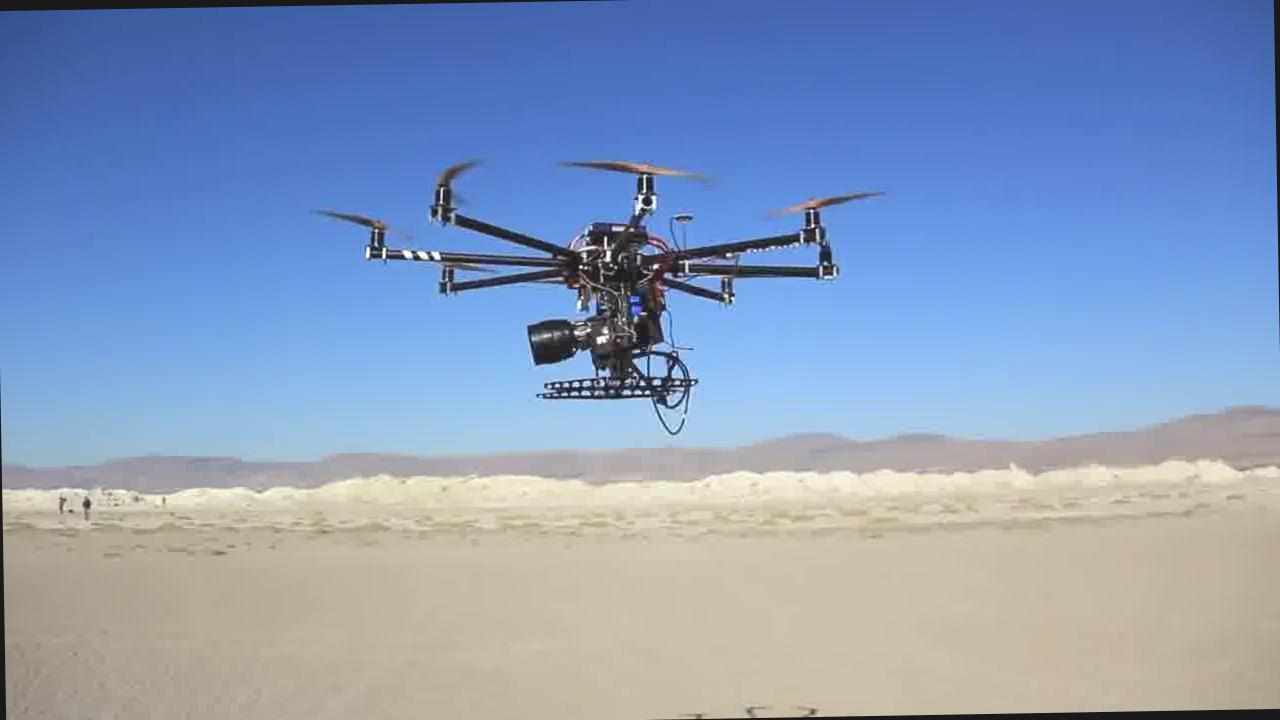drone: (311, 152, 884, 399)
